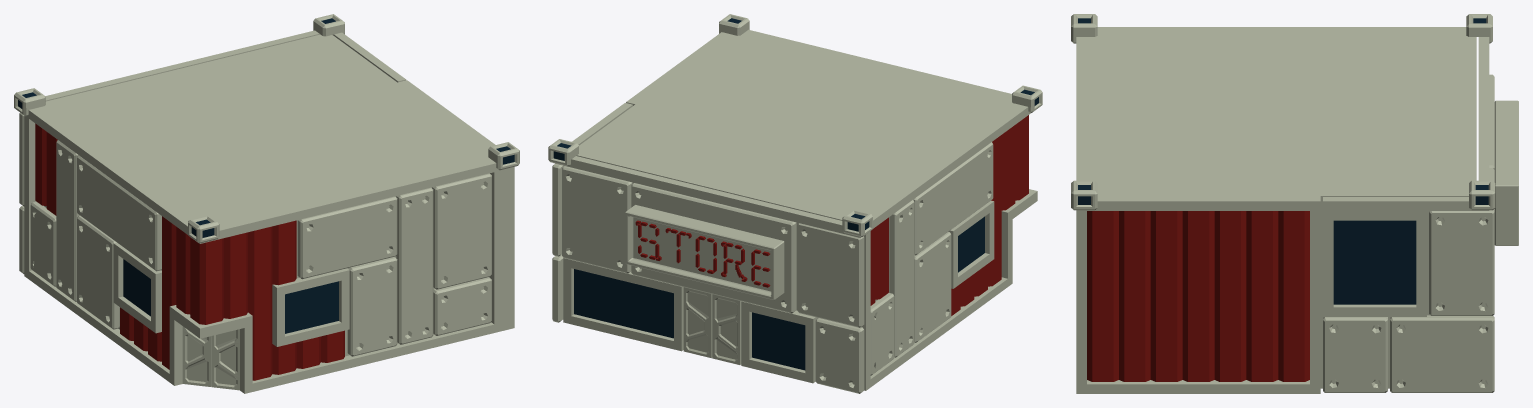
The model's file is Shop.fbx.
3 views of the same model, side by side, from view 1: azimuth 30°, elevation 25°; view 2: azimuth 150°, elevation 25°; view 3: azimuth 270°, elevation 25° (orthographic). The views are drawn at different scales.
Parts seen in each view (by area): view 1: Store_Stackable; view 2: Store_Stackable; view 3: Store_Stackable.
Part boxes in pixels (x1,y1,x2,y2): Store_Stackable: (14,14,519,393); Store_Stackable: (548,14,1042,393); Store_Stackable: (1071,14,1518,393).
Bounding box in the file's own units: 997 × 531 × 1054.
